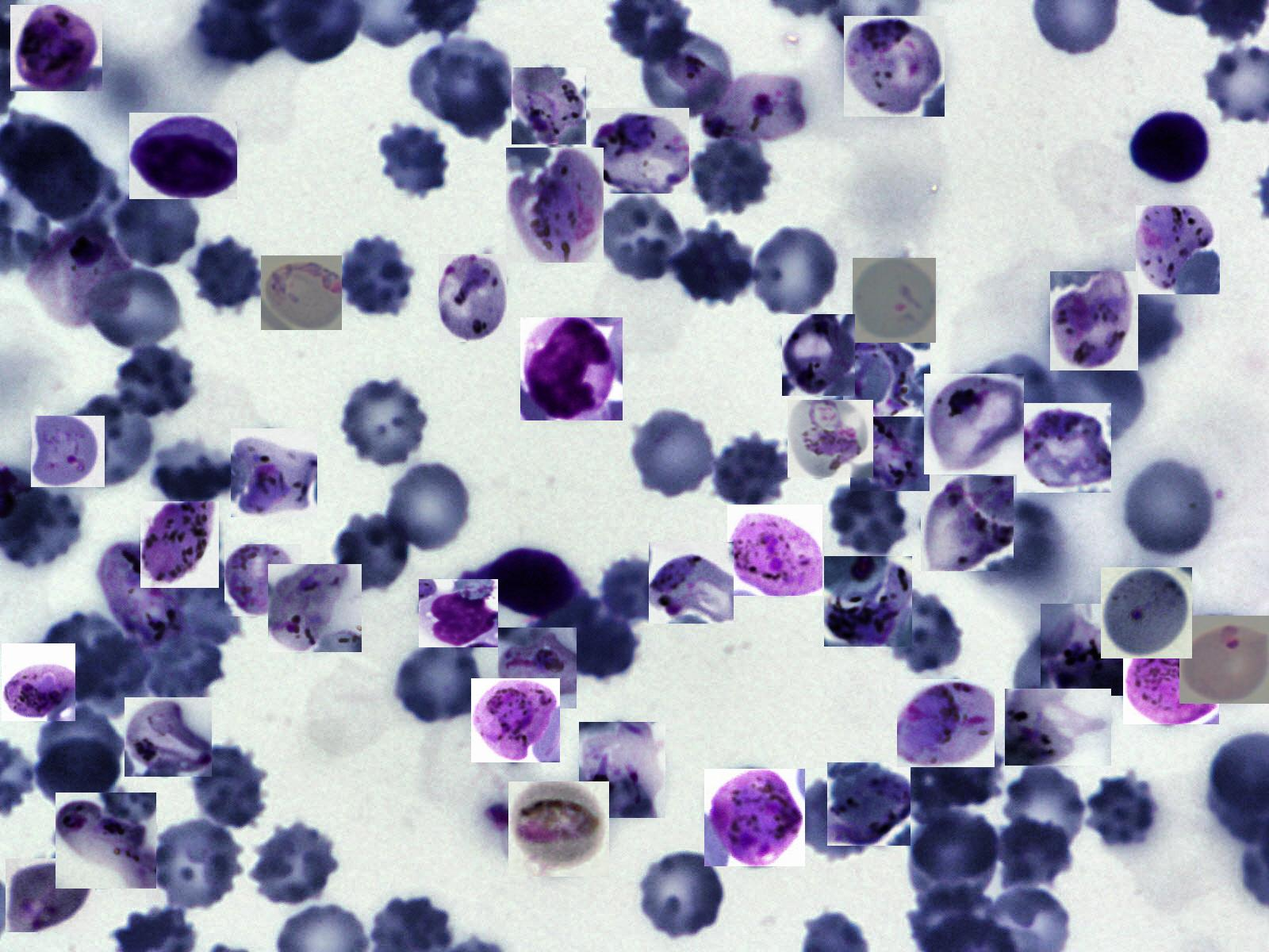Infected: (669, 48, 807, 144), (506, 148, 604, 263), (25, 225, 133, 327), (520, 317, 623, 420), (844, 16, 945, 117), (924, 374, 1024, 474), (704, 769, 805, 866), (508, 781, 609, 877), (56, 793, 156, 889), (99, 541, 187, 649), (129, 113, 237, 199), (921, 476, 1014, 571), (1041, 604, 1136, 696), (1050, 271, 1138, 370), (727, 505, 822, 596), (897, 679, 995, 767), (1017, 403, 1111, 493), (591, 108, 689, 194), (1101, 567, 1192, 658), (268, 565, 362, 653), (579, 722, 665, 818), (1005, 689, 1111, 766), (1123, 640, 1219, 724), (824, 557, 912, 647), (1179, 616, 1269, 704), (10, 5, 102, 91), (231, 428, 317, 517), (480, 547, 581, 622), (1136, 206, 1220, 295), (471, 679, 560, 763), (843, 338, 930, 422), (827, 762, 911, 846), (853, 259, 936, 344), (649, 542, 734, 624), (125, 697, 212, 777), (1128, 109, 1214, 189), (140, 501, 219, 588), (788, 400, 873, 478), (6, 858, 95, 932), (498, 628, 577, 708), (261, 255, 342, 330), (850, 416, 930, 491), (782, 314, 855, 396), (439, 254, 507, 342), (512, 67, 586, 144), (2, 643, 75, 721), (224, 544, 301, 616), (419, 579, 498, 647), (31, 416, 105, 487)
Uninfected: (1047, 347, 1148, 449), (1009, 623, 1109, 726), (412, 40, 514, 140), (1119, 458, 1218, 561), (534, 592, 642, 683), (638, 26, 736, 123), (335, 374, 434, 468), (64, 393, 159, 489), (749, 224, 844, 319), (381, 459, 476, 554), (148, 819, 243, 912), (592, 193, 689, 282), (633, 850, 730, 939), (390, 636, 487, 724), (908, 811, 1000, 902), (1072, 290, 1183, 365), (1000, 766, 1088, 860), (110, 182, 202, 271), (788, 777, 885, 861), (877, 590, 968, 676), (65, 633, 155, 717), (34, 704, 128, 784), (251, 825, 339, 908), (40, 612, 126, 696), (95, 270, 184, 351), (188, 745, 270, 831), (688, 136, 775, 215), (673, 225, 756, 307), (926, 723, 1003, 811), (110, 344, 199, 420), (708, 434, 792, 513), (631, 411, 707, 498), (176, 552, 246, 646), (336, 239, 417, 320), (147, 434, 236, 506), (826, 478, 907, 557), (330, 514, 411, 593), (976, 356, 1059, 432), (992, 819, 1076, 894), (188, 234, 266, 313), (33, 741, 121, 811), (596, 557, 676, 628), (373, 124, 450, 197), (146, 636, 227, 704), (1089, 777, 1160, 845)
